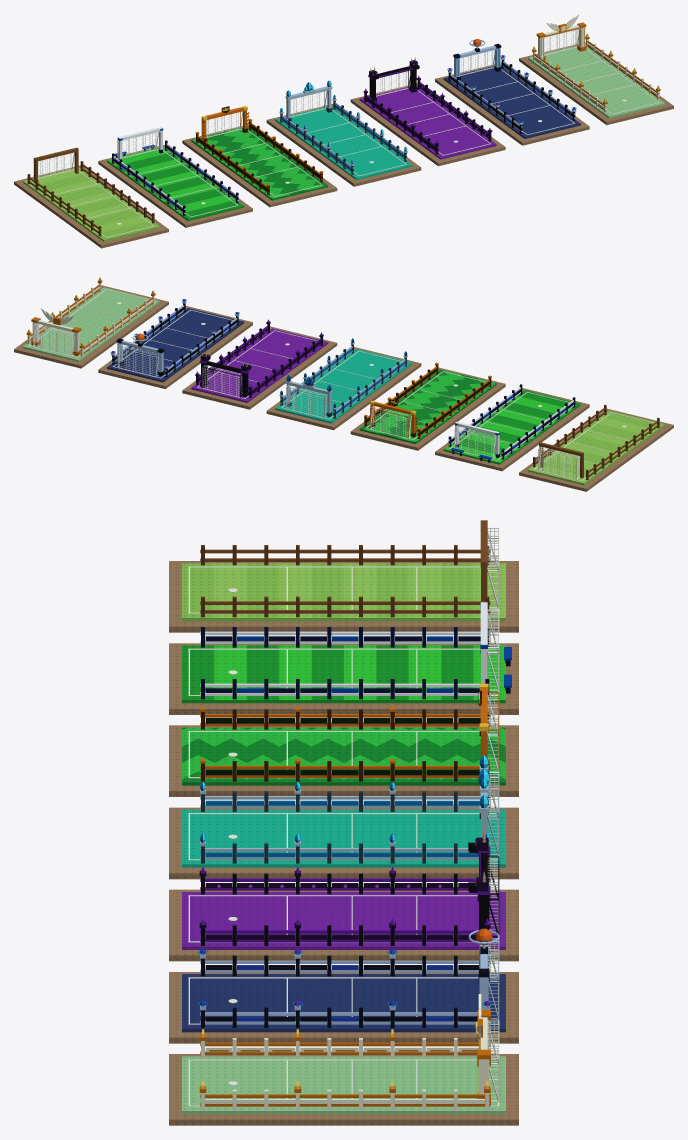
Rendered from training-fields-v2.fbx.
The picture shows the model from 3 angles, top to bottom: view 1: azimuth 30°, elevation 25°; view 2: azimuth 150°, elevation 25°; view 3: azimuth 270°, elevation 25°; orthographic projection. The views are drawn at different scales.
Parts seen in each view (by area): view 1: BF_Grass_Stripes.001, CF_Grass_Stripes.001, RF_Diamond_Turf.001, DF_Diamond_Turf.001, SF_Diamond_Turf.001, MF_Diamond_Turf.001, GF_Diamond_Turf.001, BF_Earth_Base.001, DF_Earth_Base.001, RF_Earth_Base.001, MF_Earth_Base.001, SF_Earth_Base.001 (+32 smaller); view 2: BF_Grass_Stripes.001, CF_Grass_Stripes.001, RF_Diamond_Turf.001, DF_Diamond_Turf.001, SF_Diamond_Turf.001, MF_Diamond_Turf.001, GF_Diamond_Turf.001, BF_Earth_Base.001, RF_Earth_Base.001, CF_Earth_Base.001, DF_Earth_Base.001, GF_Earth_Base.001 (+32 smaller); view 3: BF_Grass_Stripes.001, CF_Grass_Stripes.001, DF_Diamond_Turf.001, SF_Diamond_Turf.001, MF_Diamond_Turf.001, RF_Diamond_Turf.001, GF_Diamond_Turf.001, GF_Earth_Base.001, DF_Earth_Base.001, BF_Earth_Base.001, RF_Earth_Base.001, MF_Earth_Base.001 (+30 smaller).
Part boxes in pixels (left/top/right/bottom): BF_Grass_Stripes.001: left=23, top=167, right=159, bottom=239; CF_Grass_Stripes.001: left=107, top=147, right=243, bottom=219; RF_Diamond_Turf.001: left=191, top=127, right=327, bottom=198; DF_Diamond_Turf.001: left=275, top=105, right=411, bottom=178; SF_Diamond_Turf.001: left=444, top=65, right=580, bottom=137; MF_Diamond_Turf.001: left=360, top=86, right=496, bottom=157; GF_Diamond_Turf.001: left=528, top=45, right=664, bottom=116; BF_Earth_Base.001: left=14, top=165, right=168, bottom=248; DF_Earth_Base.001: left=266, top=104, right=421, bottom=186; RF_Earth_Base.001: left=182, top=124, right=337, bottom=207; MF_Earth_Base.001: left=350, top=83, right=505, bottom=166; SF_Earth_Base.001: left=435, top=62, right=589, bottom=145; BF_Grass_Stripes.001: left=528, top=410, right=664, bottom=483; CF_Grass_Stripes.001: left=444, top=390, right=580, bottom=462; RF_Diamond_Turf.001: left=360, top=369, right=496, bottom=442; DF_Diamond_Turf.001: left=276, top=349, right=411, bottom=421; SF_Diamond_Turf.001: left=107, top=308, right=243, bottom=380; MF_Diamond_Turf.001: left=191, top=328, right=327, bottom=401; GF_Diamond_Turf.001: left=23, top=287, right=159, bottom=360; BF_Earth_Base.001: left=519, top=408, right=673, bottom=491; RF_Earth_Base.001: left=350, top=367, right=505, bottom=450; CF_Earth_Base.001: left=435, top=388, right=589, bottom=471; DF_Earth_Base.001: left=266, top=347, right=421, bottom=430; GF_Earth_Base.001: left=14, top=285, right=168, bottom=368; BF_Grass_Stripes.001: left=182, top=563, right=505, bottom=617; CF_Grass_Stripes.001: left=182, top=645, right=505, bottom=700; DF_Diamond_Turf.001: left=182, top=809, right=505, bottom=864; SF_Diamond_Turf.001: left=182, top=974, right=505, bottom=1028; MF_Diamond_Turf.001: left=182, top=892, right=505, bottom=946; RF_Diamond_Turf.001: left=182, top=727, right=505, bottom=782; GF_Diamond_Turf.001: left=182, top=1056, right=505, bottom=1110; GF_Earth_Base.001: left=169, top=1054, right=518, bottom=1125; DF_Earth_Base.001: left=169, top=807, right=518, bottom=879; BF_Earth_Base.001: left=169, top=561, right=518, bottom=632; RF_Earth_Base.001: left=169, top=725, right=518, bottom=796; MF_Earth_Base.001: left=169, top=889, right=518, bottom=961.
Size of the model in its own units: 8160 by 564 by 2160.
Materials: 41 (41 with a texture image).
